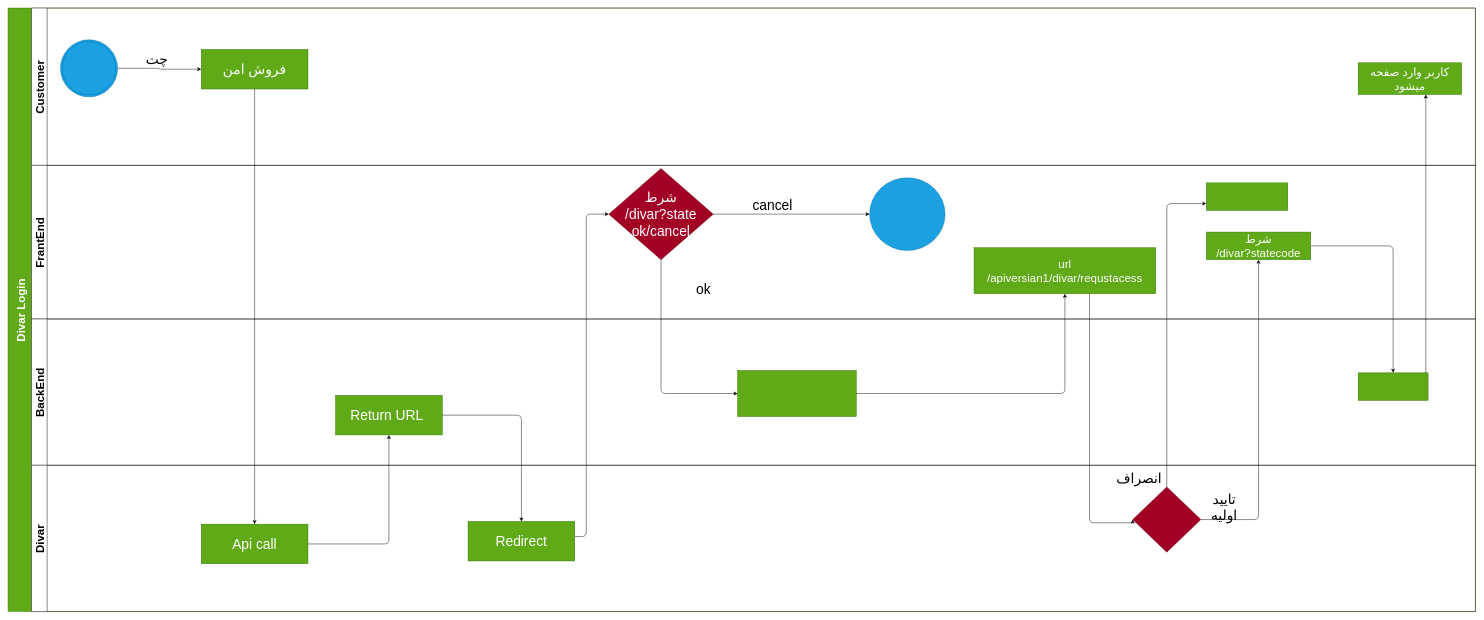
This 1484x620 diagram has some shape labels left out. Here are the shapes that lost their labels. From the top down, the centre of each, then its label:
At (89,68): "شروع".
At (907,213): "بازگشت به چت دیوار".
At (1247,196): "divar ? state".
At (796,393): "Api call /divar requestAccess".
At (1393,386): "login".
At (1166,519): "ok / cancel".
